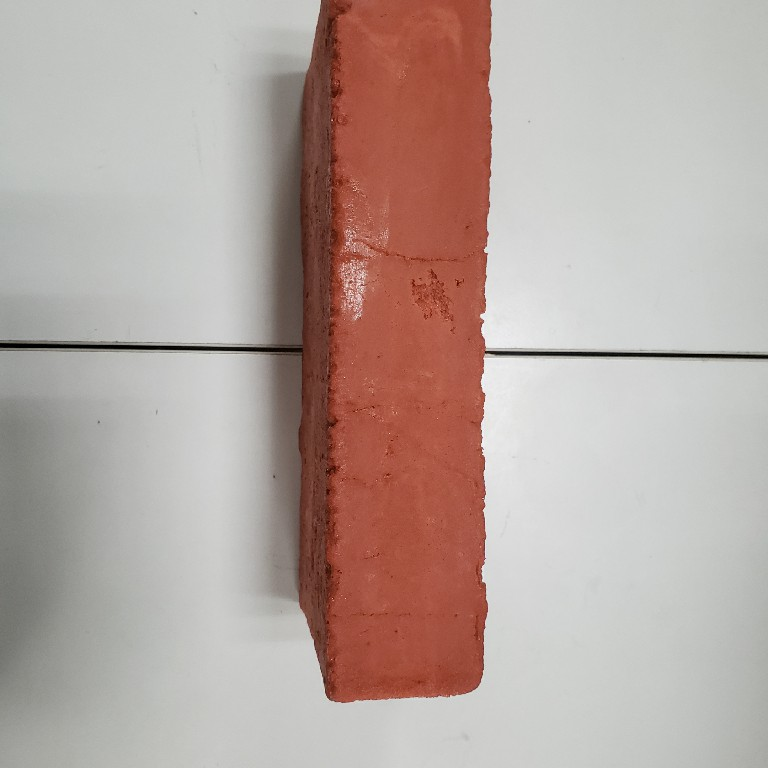brick: (285, 1, 499, 708)
